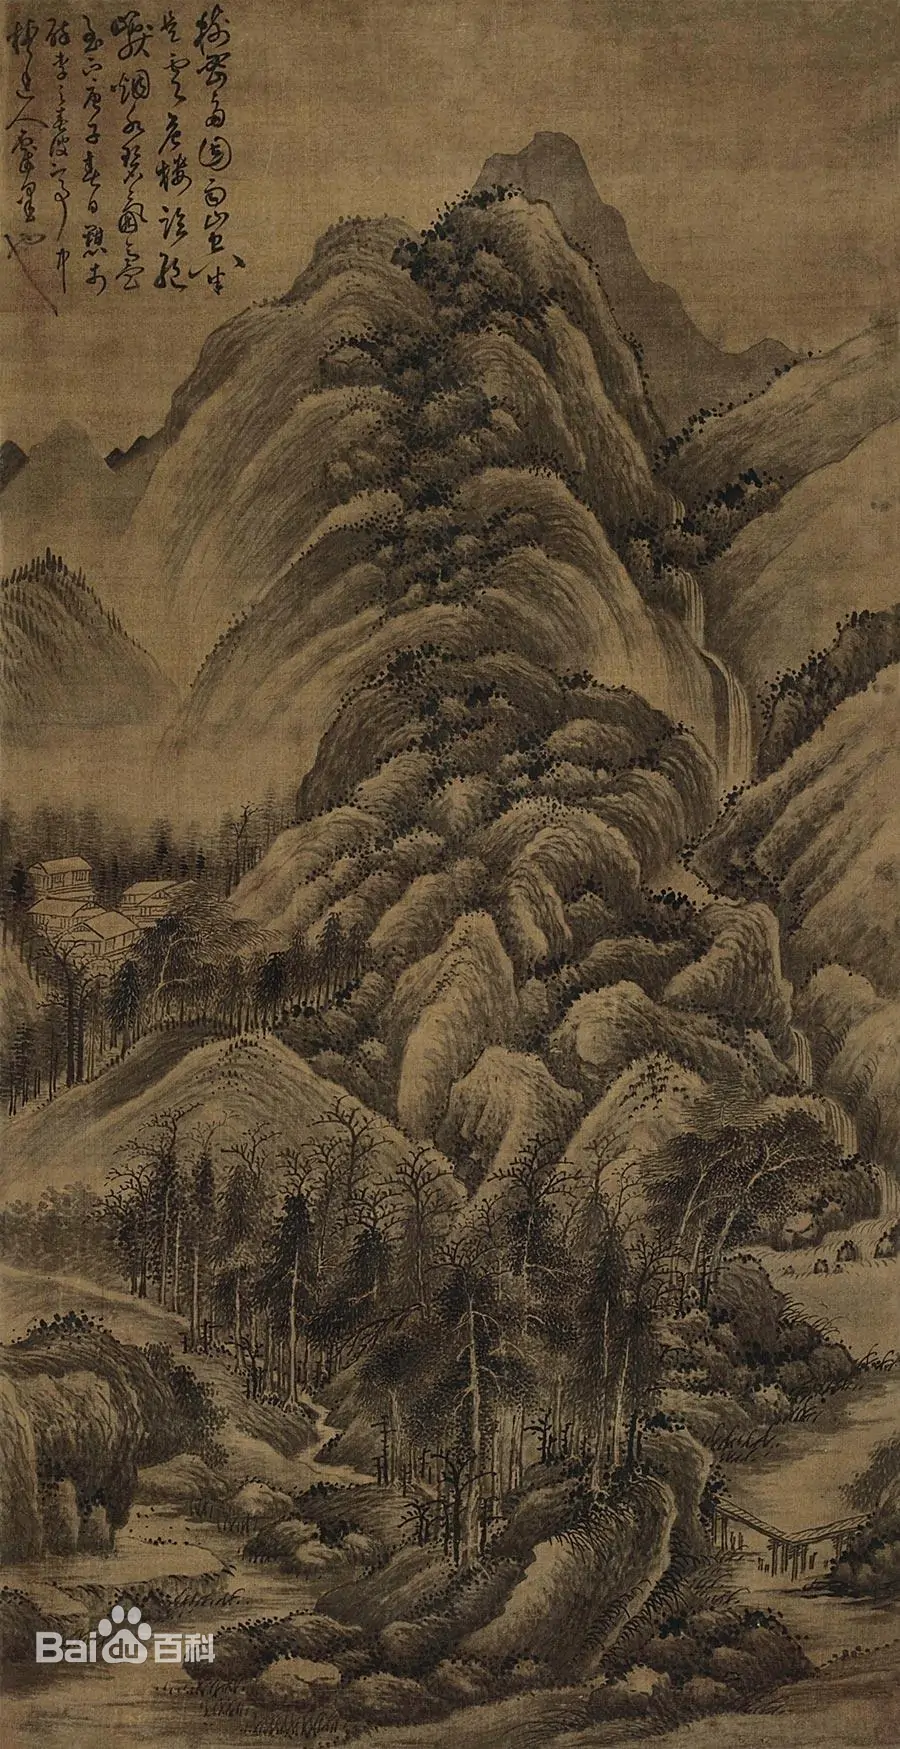bridge: (697, 1479, 893, 1603)
creek: (3, 1239, 379, 1499)
house: (36, 838, 203, 977)
range: (293, 121, 712, 1225)
tree: (375, 1175, 650, 1575), (103, 1140, 379, 1424)
